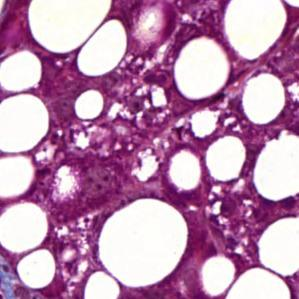steatosis: (97, 197, 191, 289), (28, 0, 111, 56), (224, 0, 288, 61), (79, 18, 128, 78)
